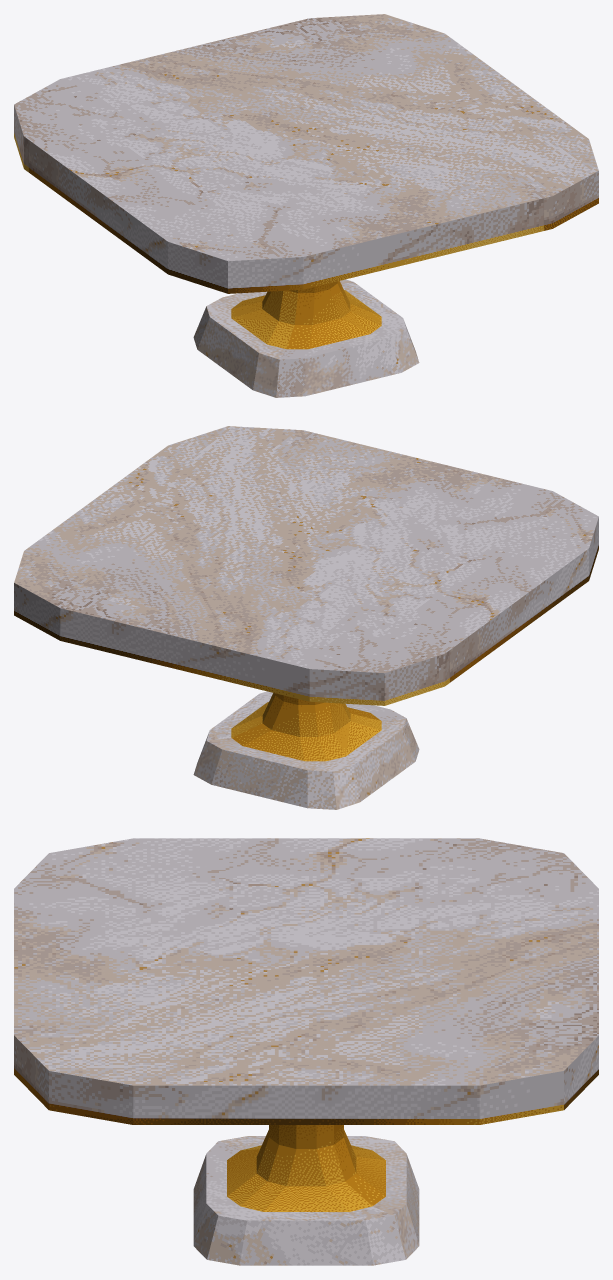
The model's file is SM_Table.fbx.
3 views of the same model, one above another, from view 1: azimuth 30°, elevation 25°; view 2: azimuth 150°, elevation 25°; view 3: azimuth 270°, elevation 25° (orthographic). The views are drawn at different scales.
Parts seen in each view (by area): view 1: Cube.002; view 2: Cube.002; view 3: Cube.002.
Part boxes in pixels (<box>): Cube.002: <box>14,14,598,397</box>; Cube.002: <box>14,426,598,809</box>; Cube.002: <box>14,838,598,1265</box>.
Size of the model in its own units: 425 by 205 by 425.
